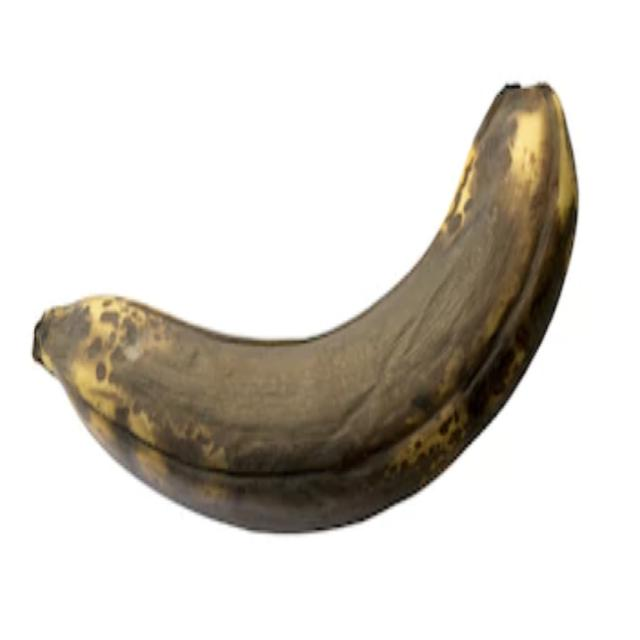rotten-banana: (32, 78, 580, 534)
